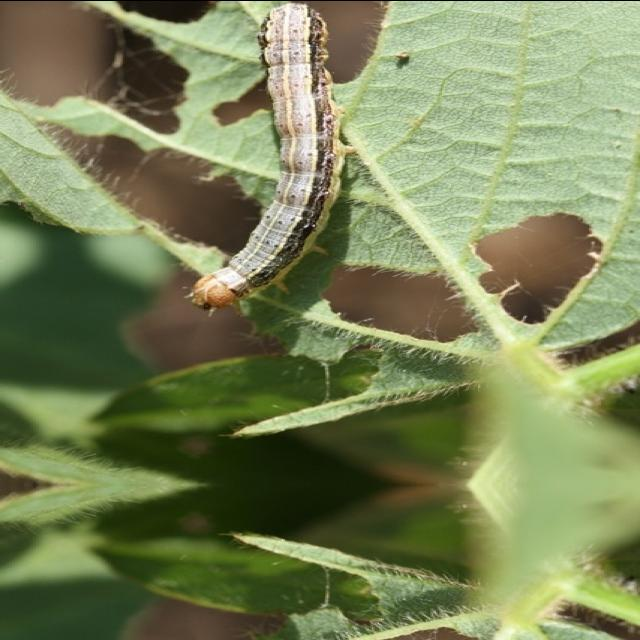Armyworm: (147, 1, 427, 324)
Armyworm_damage: (469, 186, 625, 342)
